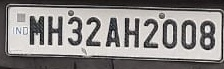character: (46, 14, 63, 46), (199, 19, 216, 51), (123, 16, 139, 48), (84, 16, 101, 46), (28, 14, 44, 45), (180, 19, 196, 50), (105, 17, 120, 47), (143, 18, 158, 48), (162, 18, 177, 48), (67, 16, 82, 45)
